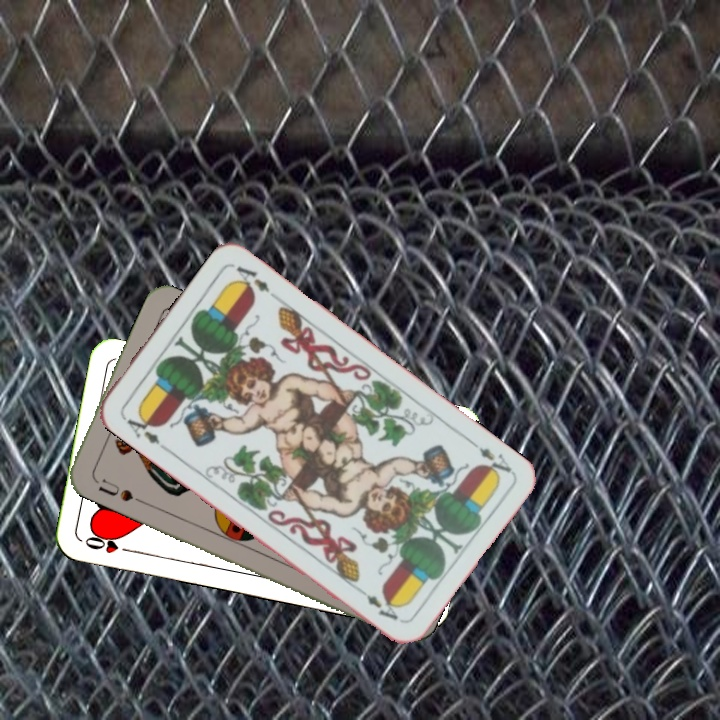EA: (464, 435, 515, 481), (118, 408, 162, 447)
HO: (81, 531, 138, 556)
SU: (89, 473, 145, 506)
